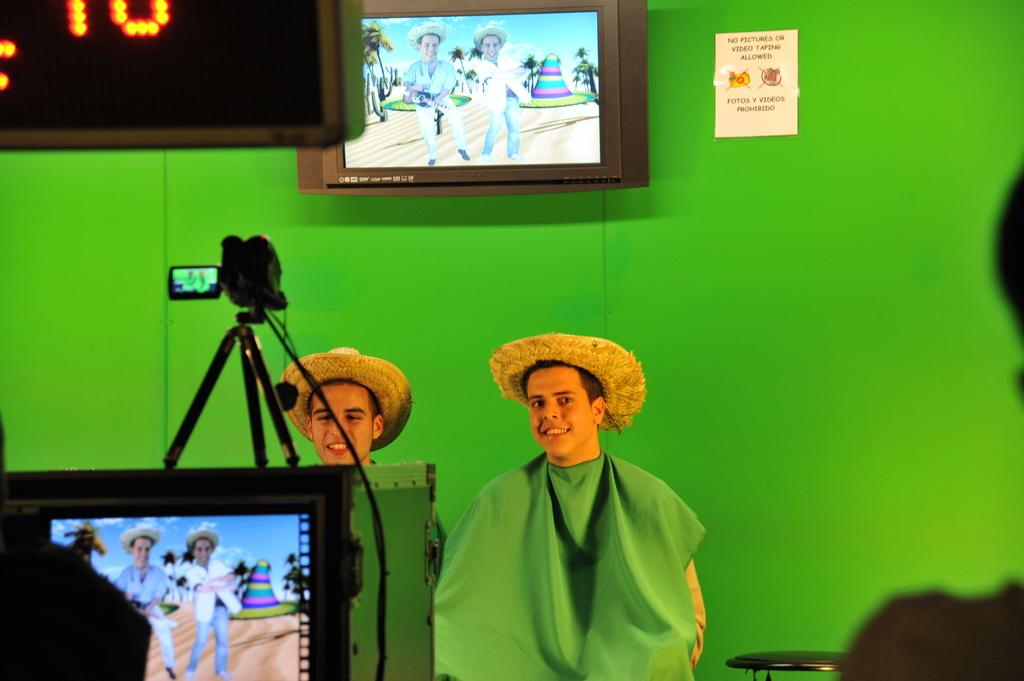Hat: (276, 343, 416, 453), (490, 335, 646, 430), (406, 20, 446, 50), (118, 526, 160, 552), (470, 24, 506, 45), (186, 528, 218, 549)
